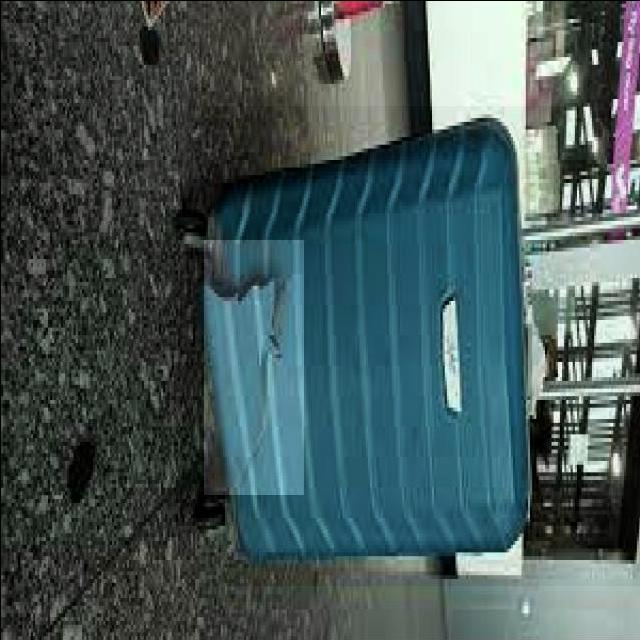Damage-bag: (204, 239, 304, 494)
